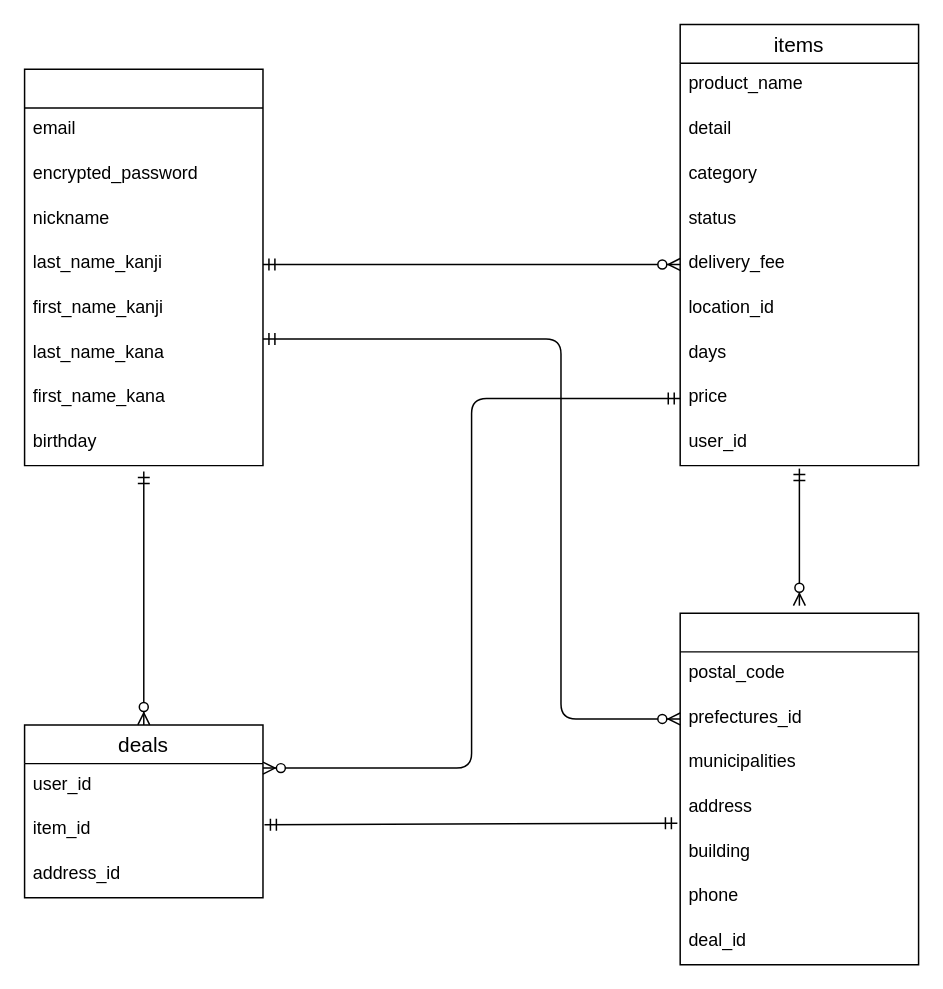
This 943x989 diagram has some shape labels left out. Here are the shapes that lost their labels. From the top down, the box of each, then its label:
(23, 68, 263, 466): users
(679, 612, 919, 965): addresses
